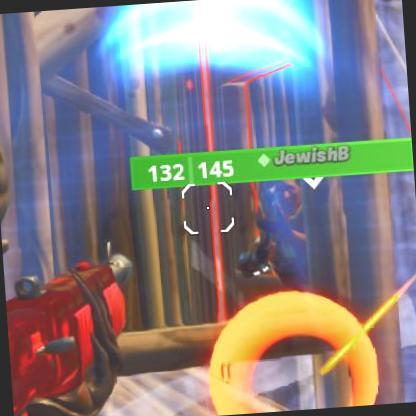person: (250, 166, 332, 306)
